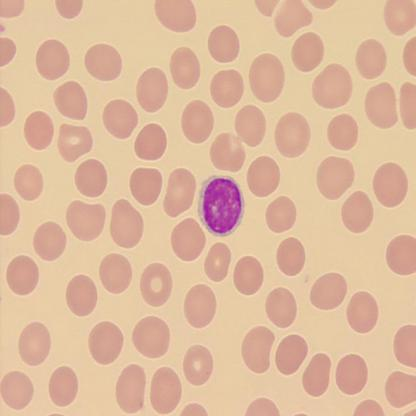Lymphocyte: (196, 174, 245, 238)
